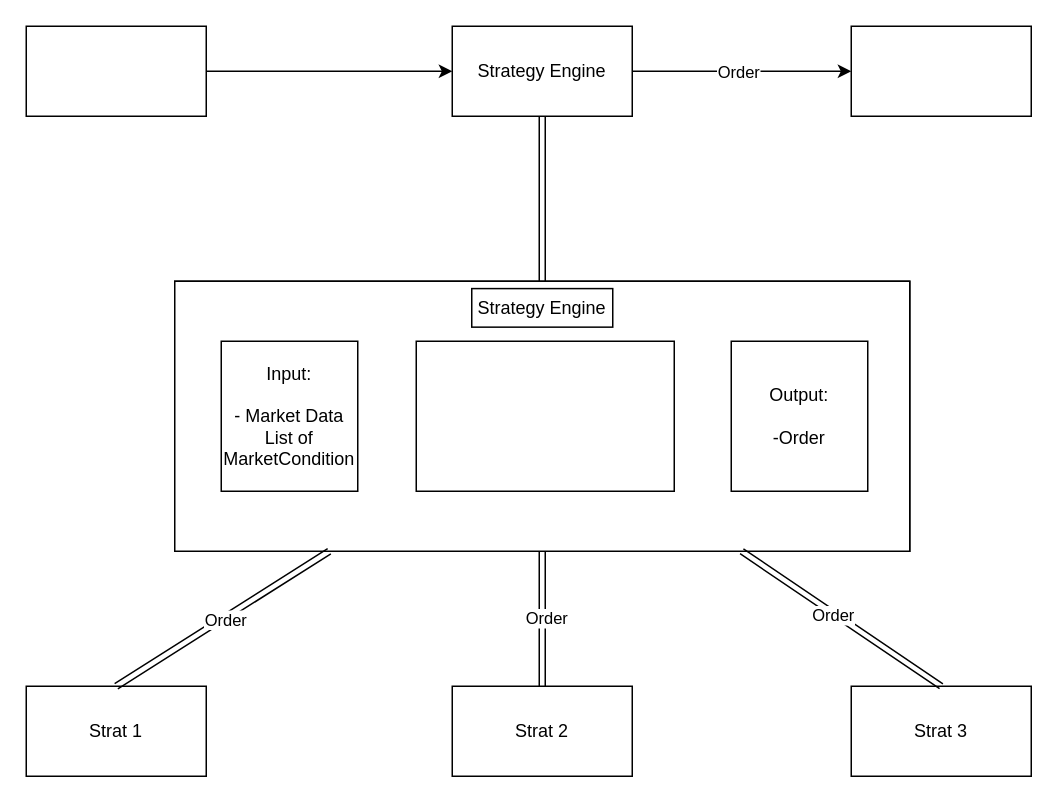
This 1058x803 diagram has some shape labels left out. Here are the shapes that lost their labels. From the top down, the box of each, then its label:
(25, 25, 206, 116): Market Data
(850, 25, 1031, 116): OMS
(415, 340, 674, 491): Methods: - generateSignal(MarketData)
